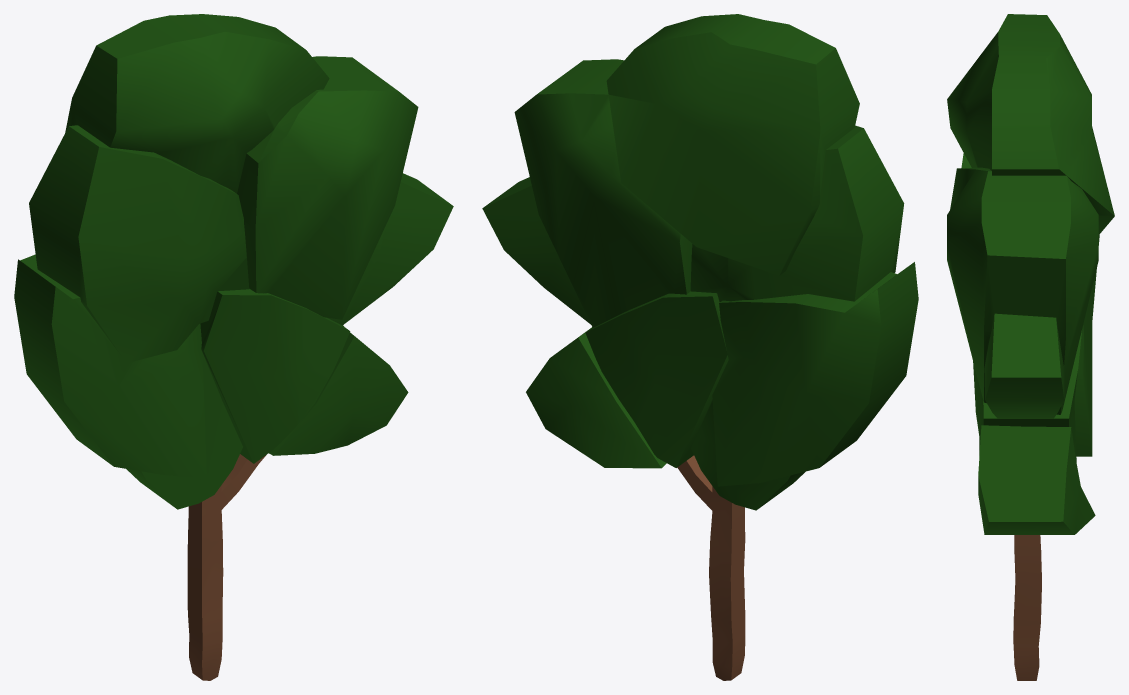
File: Tree.fbx
3 views of the same model, side by side, from view 1: azimuth 30°, elevation 25°; view 2: azimuth 150°, elevation 25°; view 3: azimuth 270°, elevation 25° (orthographic). The views are drawn at different scales.
Parts seen in each view (by area): view 1: Cube.001; view 2: Cube.001; view 3: Cube.001.
Part boxes in pixels (left/top/right/bottom): Cube.001: left=14, top=14, right=453, bottom=680; Cube.001: left=482, top=14, right=918, bottom=680; Cube.001: left=947, top=14, right=1114, bottom=680.
Size of the model in its own units: 4426 by 6906 by 1676.
